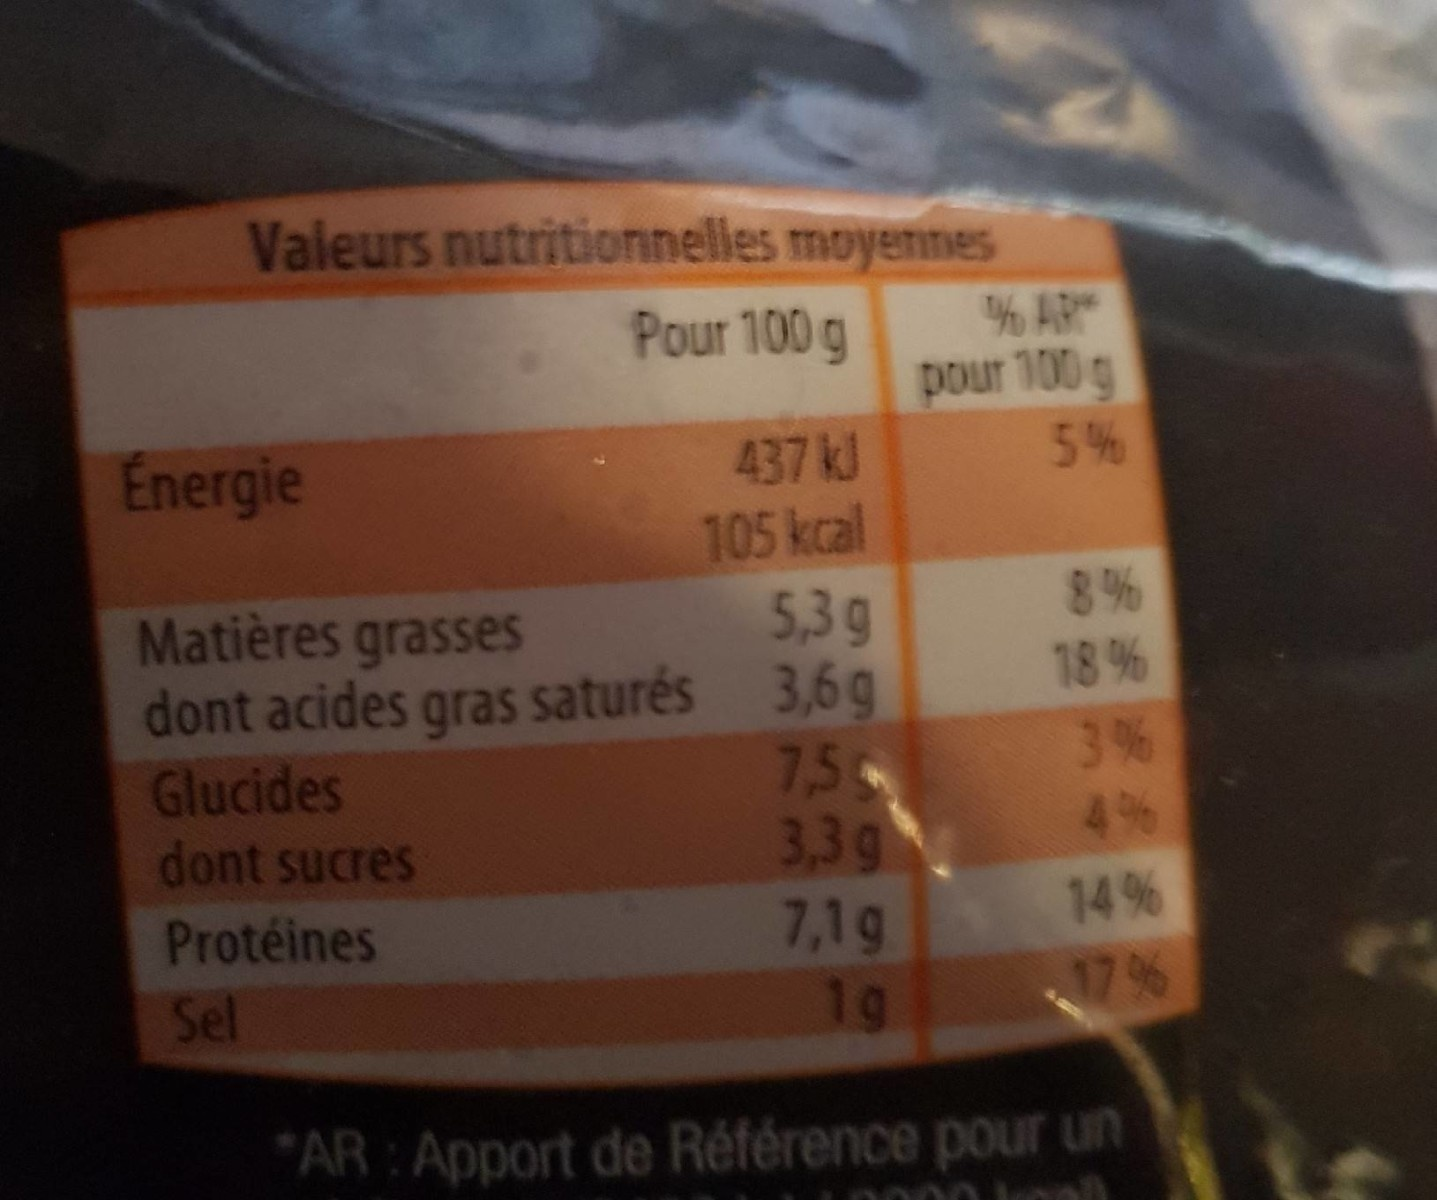column: (115, 438, 695, 1073), (918, 290, 1174, 1013), (707, 438, 892, 1044)
table: (43, 180, 1211, 1088)
